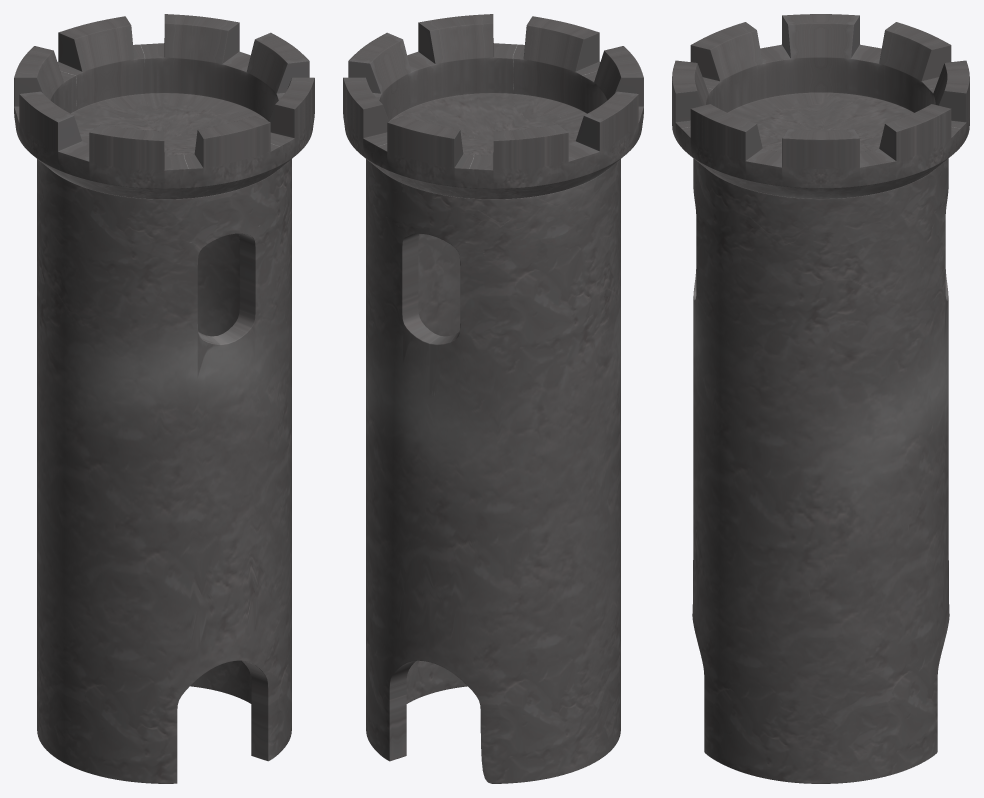
Rendered from Tower_1_Final.fbx.
3 renders of one model, left to right at view 1: azimuth 30°, elevation 25°; view 2: azimuth 150°, elevation 25°; view 3: azimuth 270°, elevation 25°, orthographic.
Parts seen in each view (by area): view 1: Cylinder, Cylinder.001; view 2: Cylinder, Cylinder.001; view 3: Cylinder, Cylinder.001.
Part boxes in pixels (bbox=[...]): Cylinder: bbox=[37, 159, 291, 783]; Cylinder.001: bbox=[14, 14, 314, 199]; Cylinder: bbox=[366, 159, 620, 783]; Cylinder.001: bbox=[343, 14, 643, 199]; Cylinder: bbox=[692, 158, 949, 783]; Cylinder.001: bbox=[672, 14, 969, 198].
Bounding box in the file's own units: 692 × 1675 × 692.
